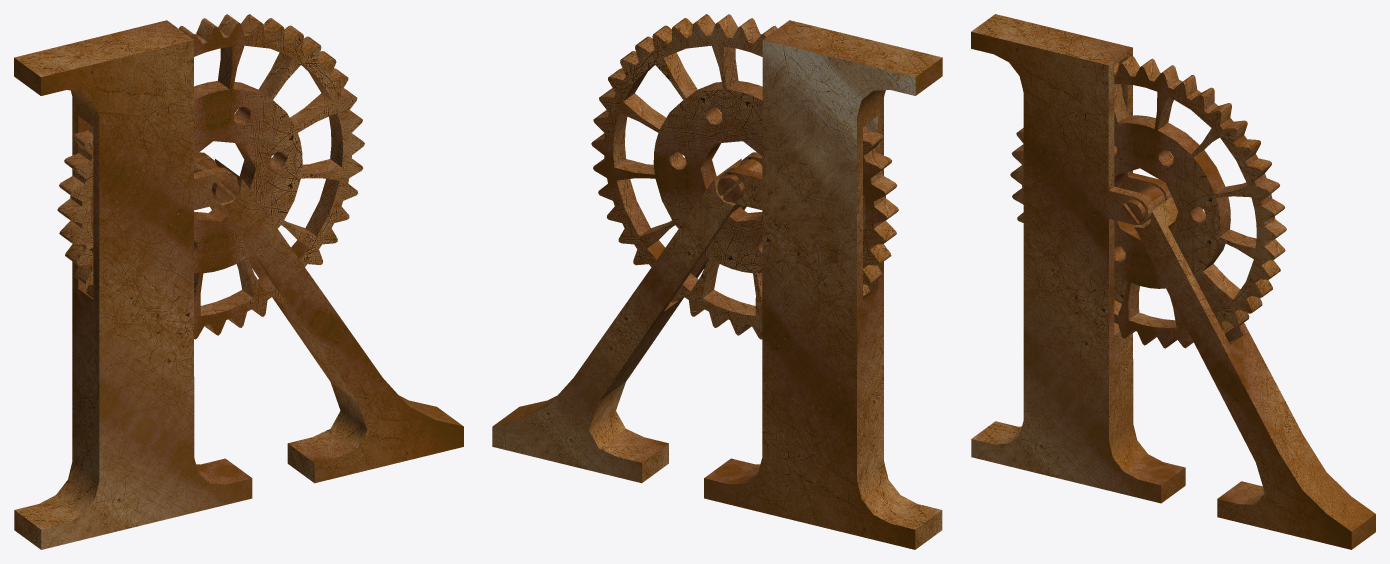
3 renders of one model, left to right at view 1: azimuth 30°, elevation 25°; view 2: azimuth 150°, elevation 25°; view 3: azimuth 330°, elevation 25°, orthographic. The views are drawn at different scales.
Parts seen in each view (by area): view 1: R, Cogwheel_248, Screw_795; view 2: R, Cogwheel_248, Screw_795; view 3: R, Cogwheel_248, Screw_795.
Part boxes in pixels (x1,y1,x2,y2): R: (14,20,463,549); Cogwheel_248: (57,14,364,339); Screw_795: (198,160,238,202); R: (492,20,942,549); Cogwheel_248: (591,14,898,339); Screw_795: (717,160,757,202); R: (971,14,1375,549); Cogwheel_248: (1010,55,1286,348); Screw_795: (1121,185,1151,224).
Bounding box in the file's own units: 90.65 × 96.93 × 12.89.
1 material, 1 textured.
